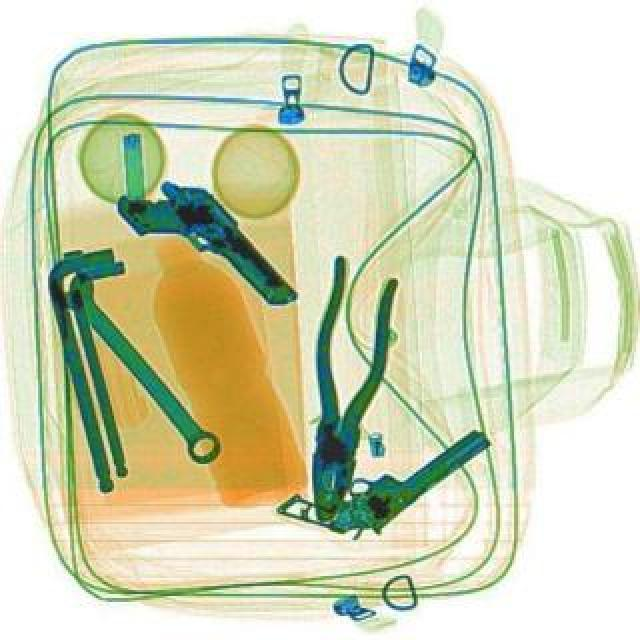gun: (274, 428, 492, 540), (116, 178, 296, 306)
scissors: (36, 260, 236, 476)
wrench: (282, 250, 402, 526)
